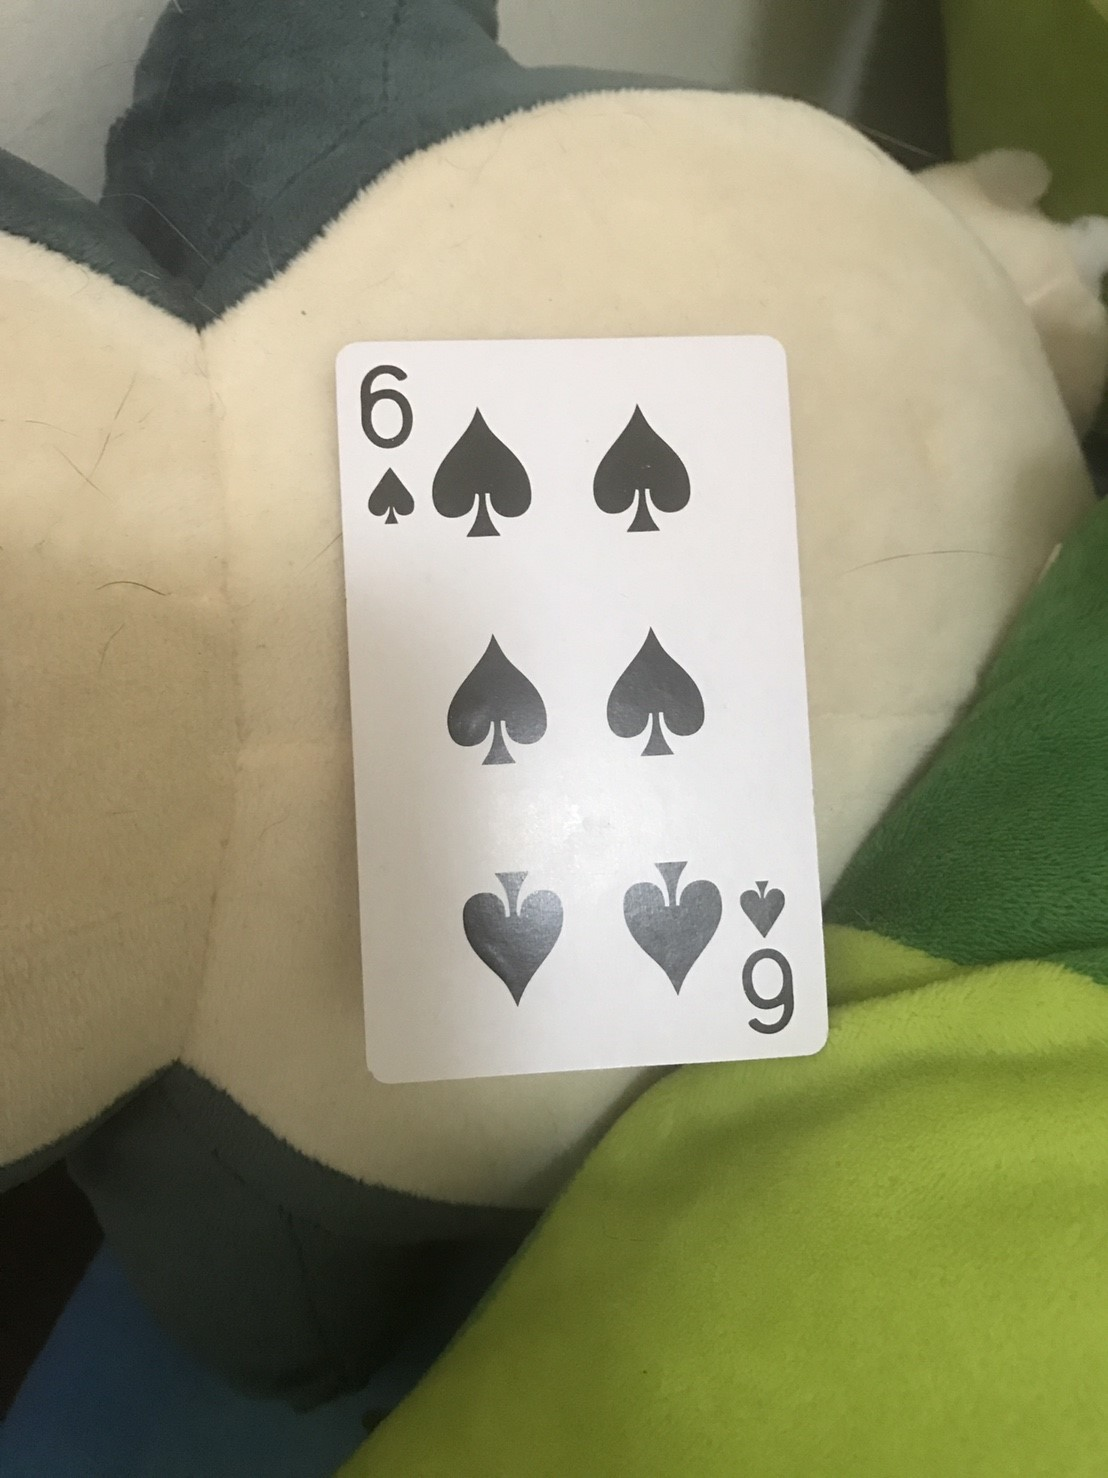spades: (443, 861, 563, 1009), (436, 628, 556, 769), (589, 397, 703, 545), (613, 857, 727, 1002), (603, 631, 717, 770), (424, 411, 541, 543), (363, 469, 424, 530), (743, 869, 789, 938)
